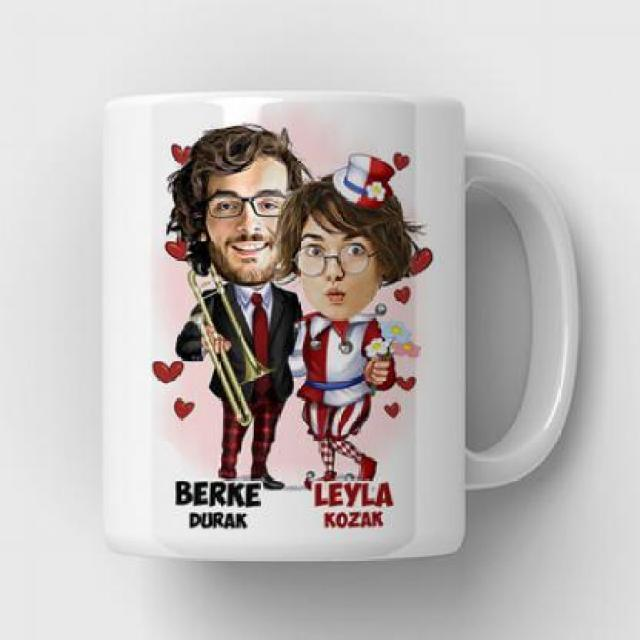taza: (90, 88, 592, 576)
